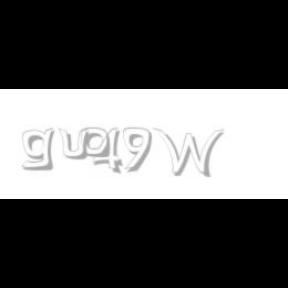4: (92, 128, 122, 174)
9: (122, 128, 152, 172)
W: (152, 128, 224, 178)
g: (22, 128, 58, 171)
o: (80, 128, 110, 158)
u: (58, 128, 92, 160)
